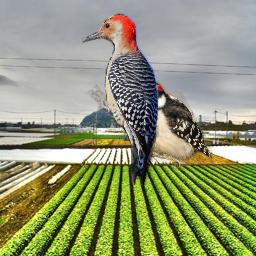Woodpecker: (82, 13, 159, 185), (110, 80, 214, 171)
